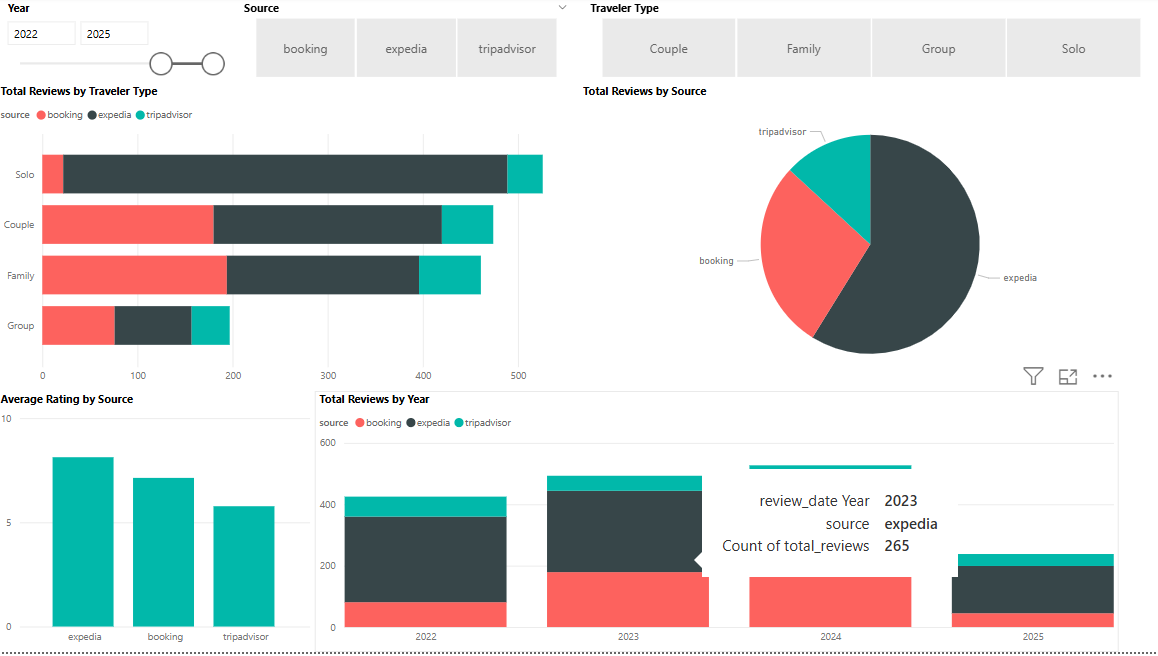

The page's visual inventory and layout, read from the dashboard file:
{"tool":"powerbi","page":{"name":"Platform Analysis","canvas":[1280,720],"ordinal":0},"visuals":[{"type":"columnChart","title":"Average Rating by Source","fields":{"Category":["cleaned_reviews.source"],"Y":["Avg(cleaned_reviews.review_rating)"]},"box":[0,433.6,349.9,286.8],"z":0},{"type":"pieChart","title":"Total Reviews by Source","fields":{"Category":["cleaned_reviews.source"],"Y":["CountNonNull(cleaned_reviews.total_reviews)"]},"box":[639.5,96.1,640.8,337.6],"z":1000},{"type":"columnChart","title":"Total Reviews by Year","fields":{"Y":["CountNonNull(cleaned_reviews.total_reviews)"],"Category":["cleaned_reviews.review_date.Variation.Date Hierarchy.Year"],"Series":["cleaned_reviews.source"]},"box":[349.9,433.6,882.3,286.8],"z":2000},{"type":"barChart","title":"Total Reviews by Traveler Type","fields":{"Category":["cleaned_reviews.traveler_type"],"Y":["CountNonNull(cleaned_reviews.total_reviews)"],"Series":["cleaned_reviews.source"]},"box":[0,96.1,639.5,337.6],"z":3000},{"type":"slicer","fields":{"Values":["cleaned_reviews.review_date.Variation.Date Hierarchy.Year"]},"box":[0,0,259.3,96.1],"z":4000},{"type":"slicer","fields":{"Values":["cleaned_reviews.source"]},"box":[259.3,0,380.1,96.1],"z":5000},{"type":"slicer","fields":{"Values":["cleaned_reviews.traveler_type"]},"box":[639.5,0,640.8,96.1],"z":6000}]}

Visuals, with their boxes in screenshot pixels (x1, y1, x2, y2), scaled from the page's 1280x720 canvas onto the 1158x656 screenshot:
"Average Rating by Source" columnChart: crop(0, 395, 317, 655)
"Total Reviews by Source" pieChart: crop(579, 88, 1157, 395)
"Total Reviews by Year" columnChart: crop(317, 395, 1115, 655)
"Total Reviews by Traveler Type" barChart: crop(0, 88, 579, 395)
slicer - cleaned_reviews.review_date.Variation.Date Hierarchy.Year: crop(0, 0, 235, 88)
slicer - cleaned_reviews.source: crop(235, 0, 578, 88)
slicer - cleaned_reviews.traveler_type: crop(579, 0, 1157, 88)
